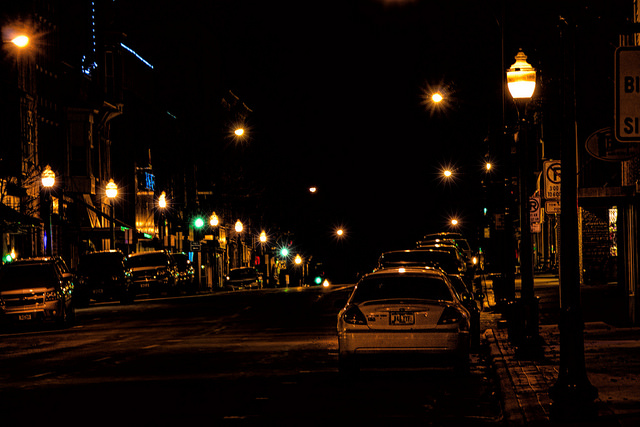car: (328, 261, 473, 385)
